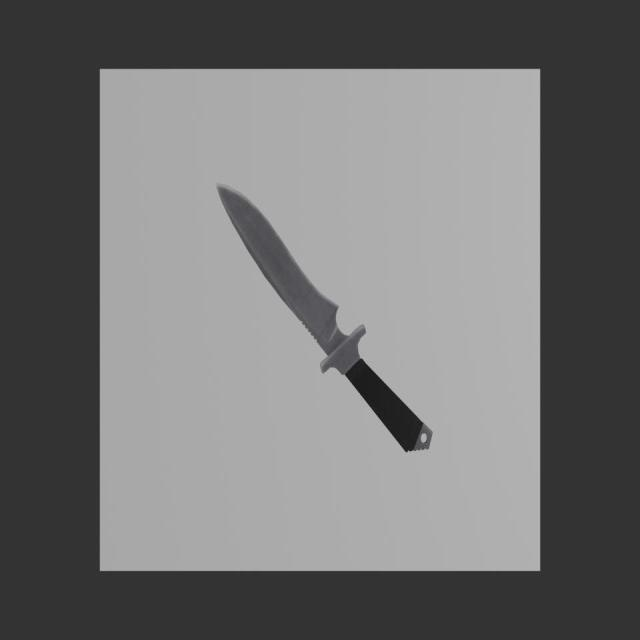knife: (344, 358, 432, 452)
